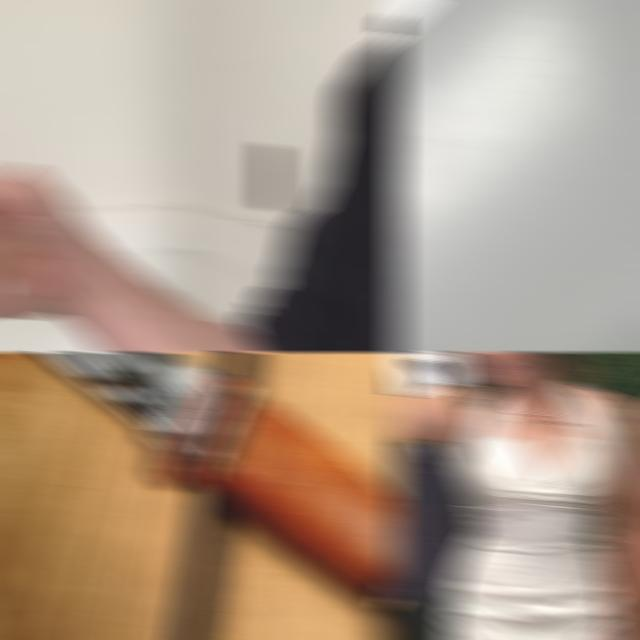Knife_Handle: (0, 0, 78, 328)
